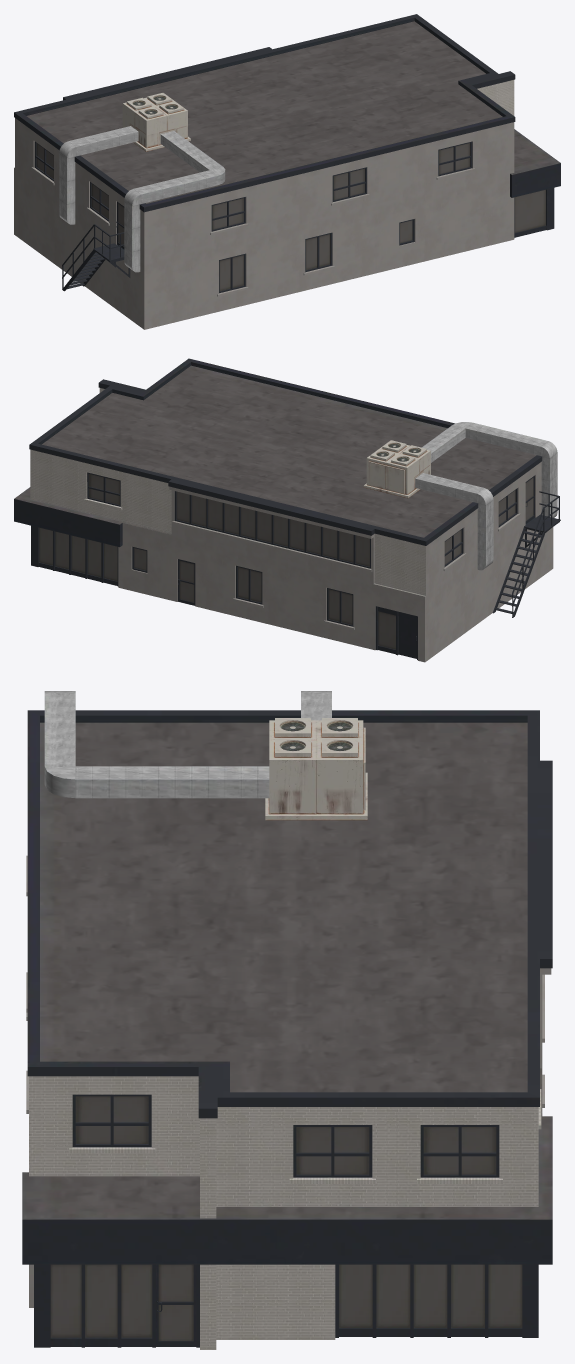
3 renders of one model, top to bottom at view 1: azimuth 30°, elevation 25°; view 2: azimuth 150°, elevation 25°; view 3: azimuth 270°, elevation 25°, orthographic. The views are drawn at different scales.
Visible parts, largest first — view 1: Office_Main_Body_0, Office_Windows_Ventilation_0; view 2: Office_Main_Body_0, Office_Windows_Ventilation_0; view 3: Office_Main_Body_0, Office_Windows_Ventilation_0.
Part boxes in pixels (bbox=[...]): Office_Main_Body_0: bbox=[14, 14, 560, 329]; Office_Windows_Ventilation_0: bbox=[34, 93, 554, 293]; Office_Main_Body_0: bbox=[14, 358, 560, 662]; Office_Windows_Ventilation_0: bbox=[31, 422, 557, 659]; Office_Main_Body_0: bbox=[22, 710, 552, 1349]; Office_Windows_Ventilation_0: bbox=[34, 691, 538, 1347].
Size of the model in its own units: 32.04 by 10.61 by 17.14.
2 materials, 2 textured.
